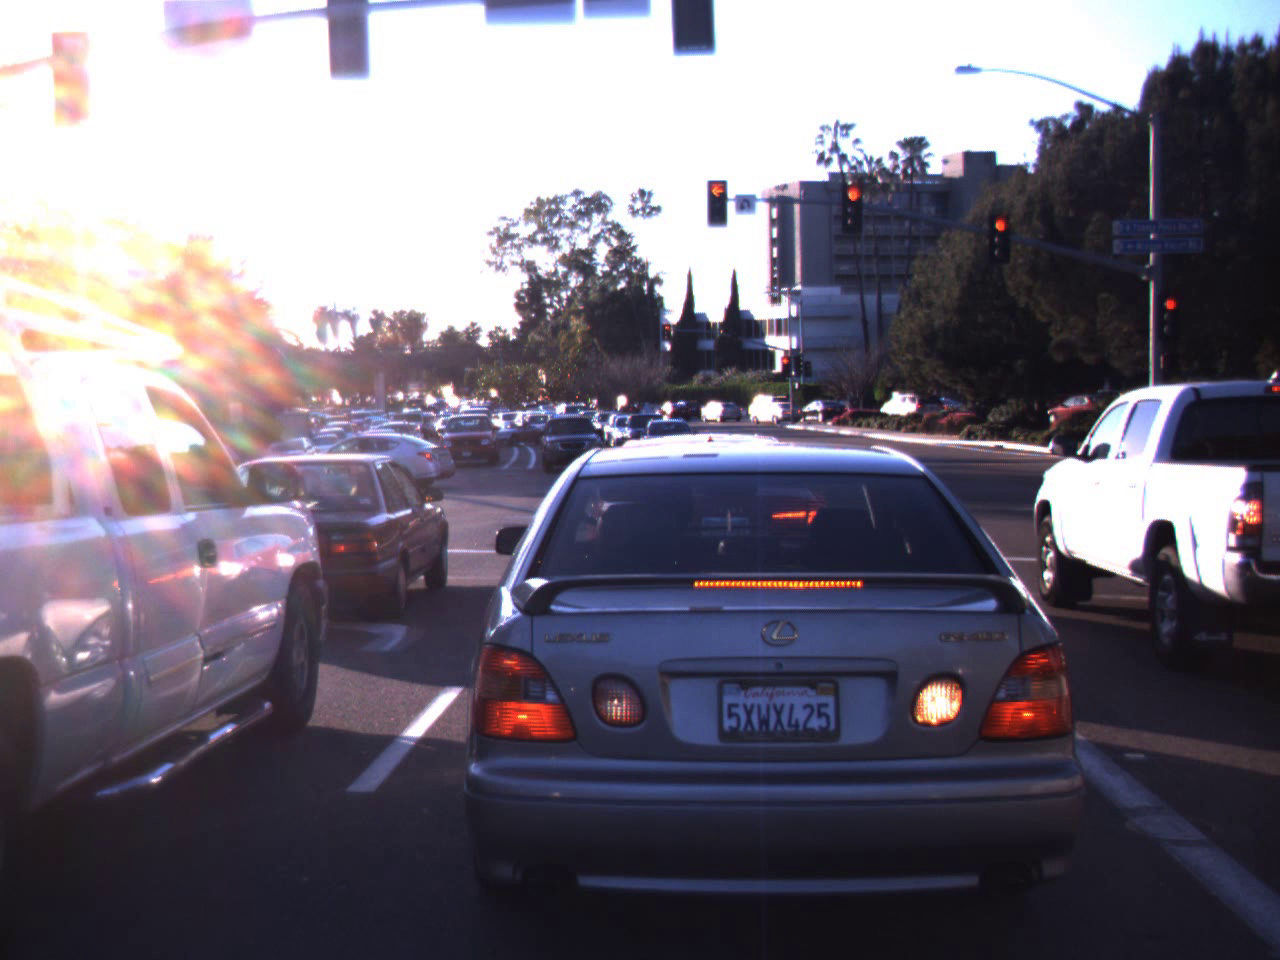Traffic_Light_stop: (991, 210, 1009, 269), (706, 181, 728, 226), (844, 183, 861, 229), (1166, 298, 1178, 333)
